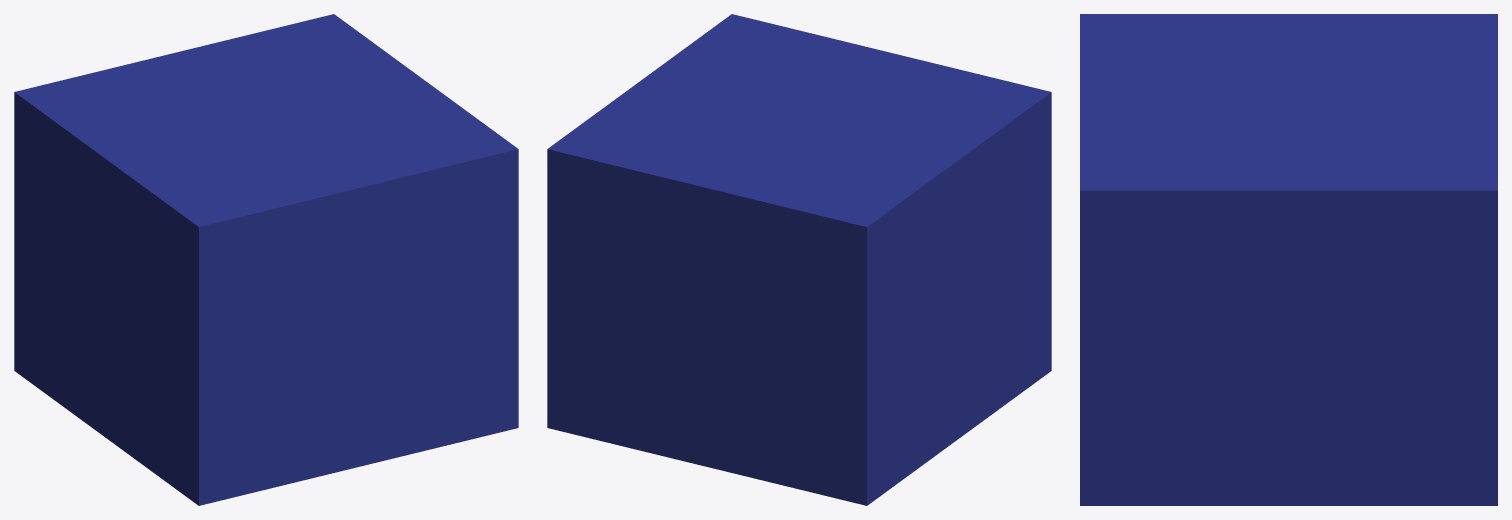
Rendered from blue_target.fbx.
3 renders of one model, left to right at view 1: azimuth 30°, elevation 25°; view 2: azimuth 150°, elevation 25°; view 3: azimuth 270°, elevation 25°, orthographic. The views are drawn at different scales.
Visible parts, largest first — view 1: Body1; view 2: Body1; view 3: Body1.
Boxes of the visible parts, x1,y1,x2,y2 form: Body1: (14, 14, 518, 505); Body1: (547, 14, 1051, 505); Body1: (1080, 14, 1497, 505).
Bounding box in the file's own units: 0.6 × 0.5 × 0.6.
